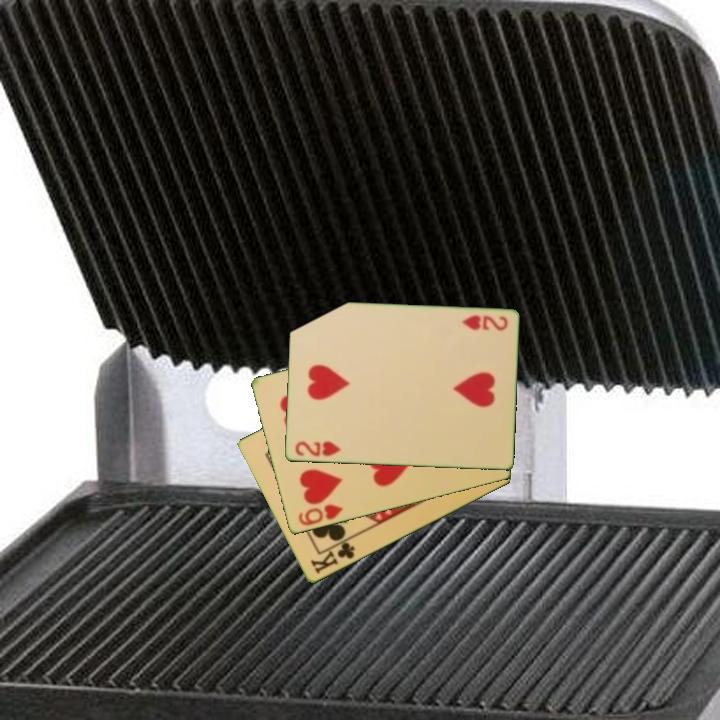2h: (291, 438, 343, 460), (458, 312, 510, 334)
6h: (295, 501, 346, 529)
Kc: (307, 535, 358, 577)
